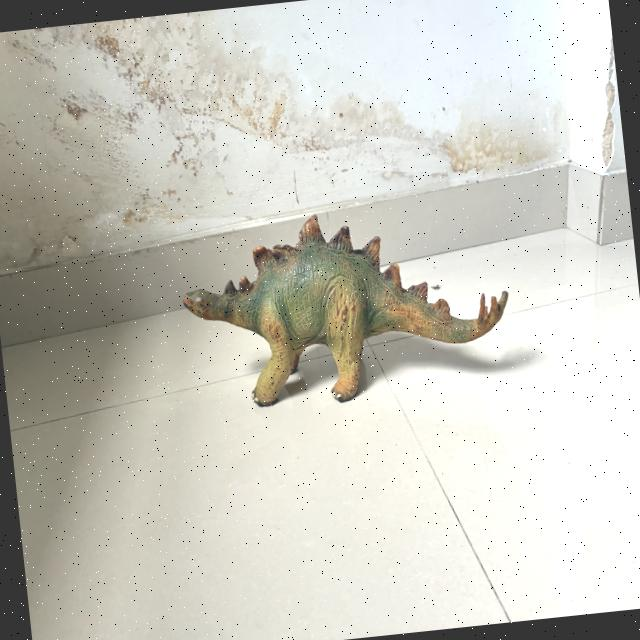dinosaur: (183, 215, 508, 405)
